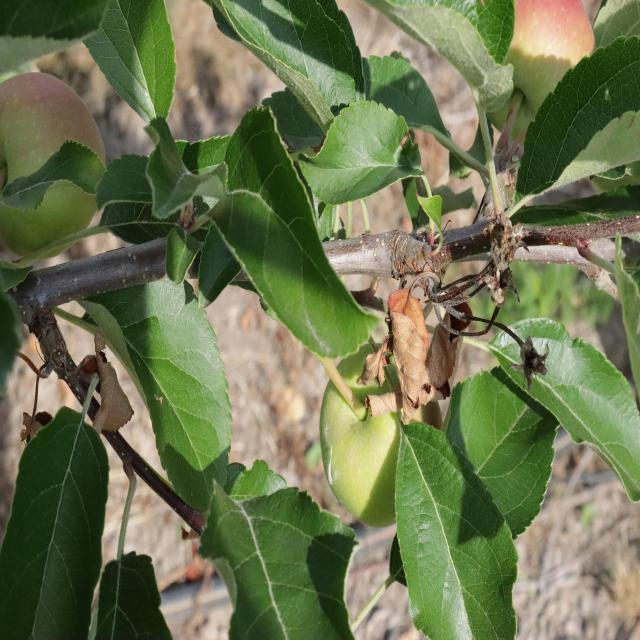-FireBlight-: (370, 271, 462, 409)
